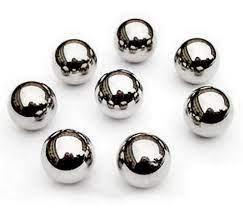steelball: (113, 130, 174, 190), (38, 126, 97, 187), (4, 78, 60, 131), (91, 66, 145, 120), (169, 36, 223, 84), (47, 35, 97, 86), (112, 15, 158, 64)
